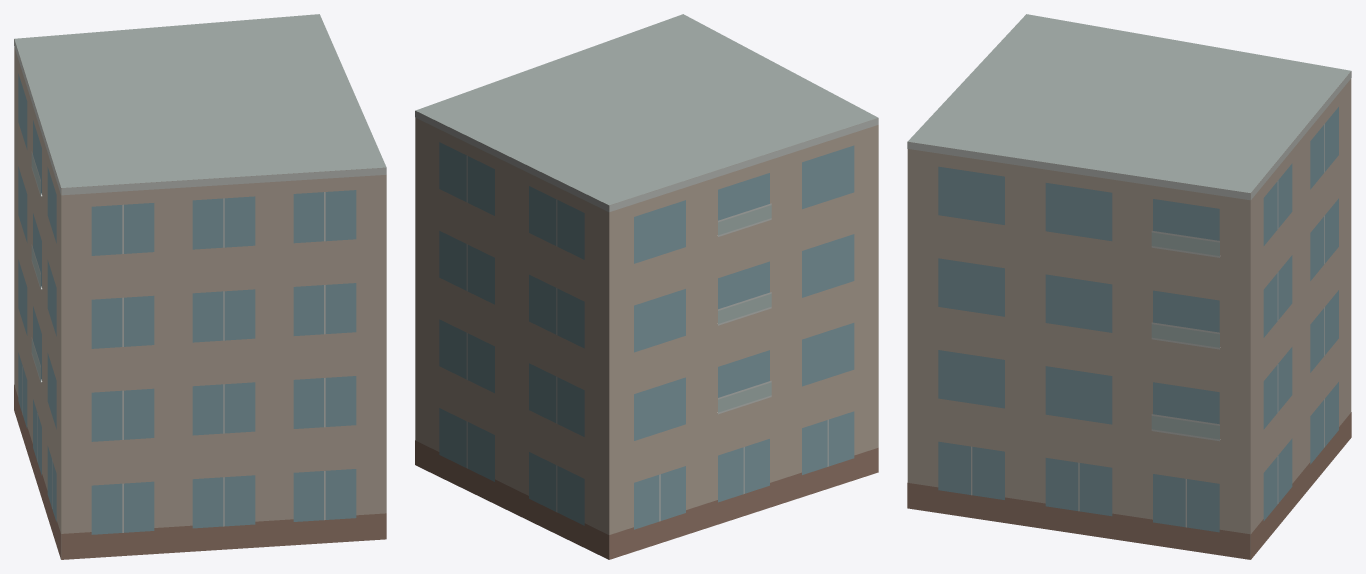
Rendered from survey-upis-33002153.glb.
3 renders of one model, left to right at view 1: azimuth 30°, elevation 25°; view 2: azimuth 150°, elevation 25°; view 3: azimuth 270°, elevation 25°, orthographic. The views are drawn at different scales.
Visible parts, largest first — view 1: survey-upis-33002153.tmp; view 2: survey-upis-33002153.tmp; view 3: survey-upis-33002153.tmp.
Boxes of the visible parts, left/top/right/bottom form: survey-upis-33002153.tmp: left=14, top=14, right=386, bottom=559; survey-upis-33002153.tmp: left=415, top=14, right=878, bottom=559; survey-upis-33002153.tmp: left=907, top=14, right=1351, bottom=559.
Bounding box in the file's own units: 13.11 × 12.5 × 13.73.
